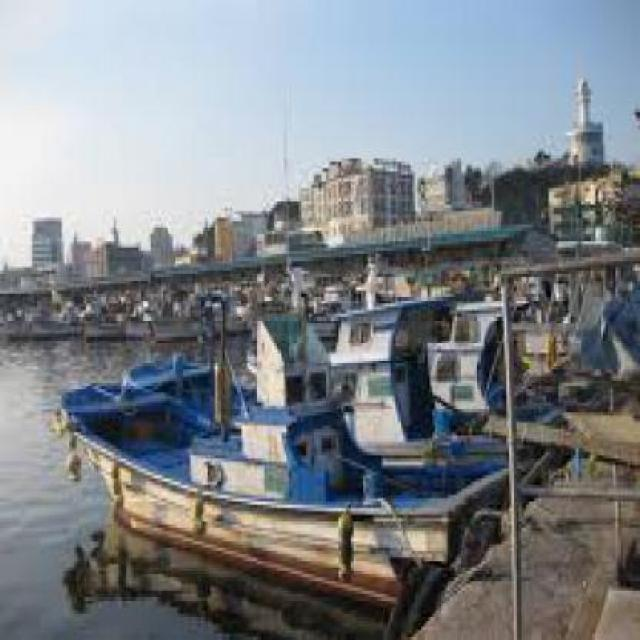Ship: (40, 318, 548, 615)
